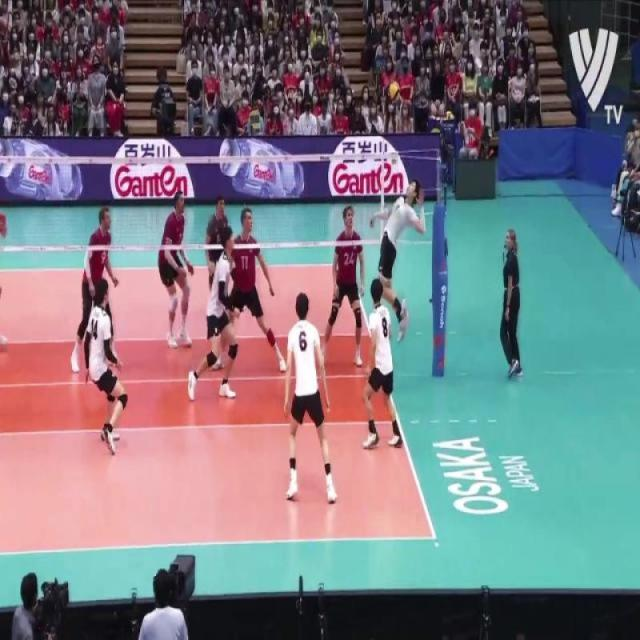volleyball: (388, 81, 401, 102)
